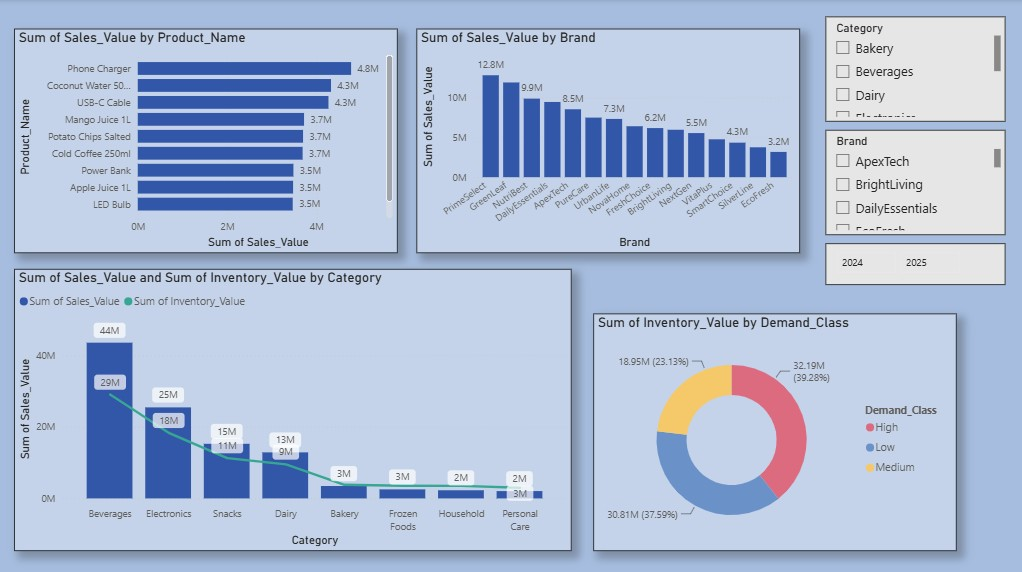

This screenshot's page, from the dashboard's own definition file:
{"tool":"powerbi","page":{"name":"Product Performance","canvas":[1280,720],"ordinal":4},"visuals":[{"type":"clusteredBarChart","fields":{"Category":["Products.Product_Name"],"Y":["Sum(Sales.Sales_Value)"]},"box":[20.8,37.1,478.5,279.7],"z":0},{"type":"clusteredColumnChart","fields":{"Category":["Products.Brand"],"Y":["Sum(Sales.Sales_Value)"]},"box":[522.8,37.8,478.5,279.7],"z":1000},{"type":"donutChart","fields":{"Y":["Sum(Inventory.Inventory_Value)"],"Category":["Products.Demand_Class"]},"box":[743.5,393.3,453.2,296.5],"z":2000},{"type":"lineClusteredColumnComboChart","fields":{"Category":["Products.Category"],"Y":["Sum(Sales.Sales_Value)"],"Y2":["Sum(Inventory.Inventory_Value)"]},"box":[20.8,337.7,695.8,352.1],"z":2001},{"type":"slicer","fields":{"Values":["Dates.Year"]},"box":[1032.9,305.7,224.1,52.2],"z":2002},{"type":"slicer","fields":{"Values":["Products.Category"]},"box":[1032.9,22.6,224.1,131.4],"z":2003},{"type":"slicer","fields":{"Values":["Products.Brand"]},"box":[1032.9,164.2,224.1,131.4],"z":2004}]}

Visuals, with their boxes in screenshot pixels (x1, y1, x2, y2), scaled from the page's 1280x720 canvas onto the 1022x572 screenshot:
clusteredBarChart - Products.Product_Name x Sum(Sales.Sales_Value): box(17, 29, 399, 252)
clusteredColumnChart - Products.Brand x Sum(Sales.Sales_Value): box(417, 30, 799, 252)
donutChart - Sum(Inventory.Inventory_Value) x Products.Demand_Class: box(594, 312, 955, 548)
lineClusteredColumnComboChart - Products.Category x Sum(Sales.Sales_Value): box(17, 268, 572, 548)
slicer - Dates.Year: box(825, 243, 1004, 284)
slicer - Products.Category: box(825, 18, 1004, 122)
slicer - Products.Brand: box(825, 130, 1004, 235)
